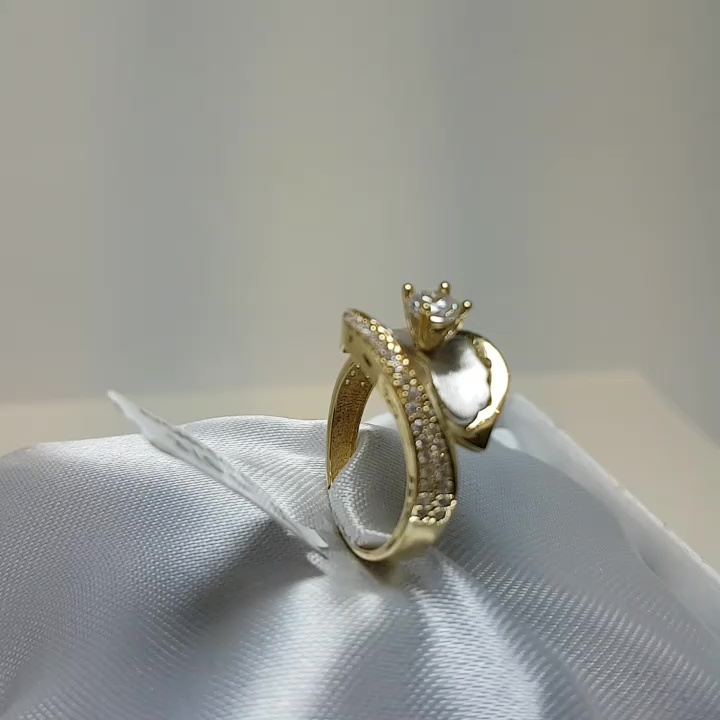Ring 6: (300, 266, 544, 579)
